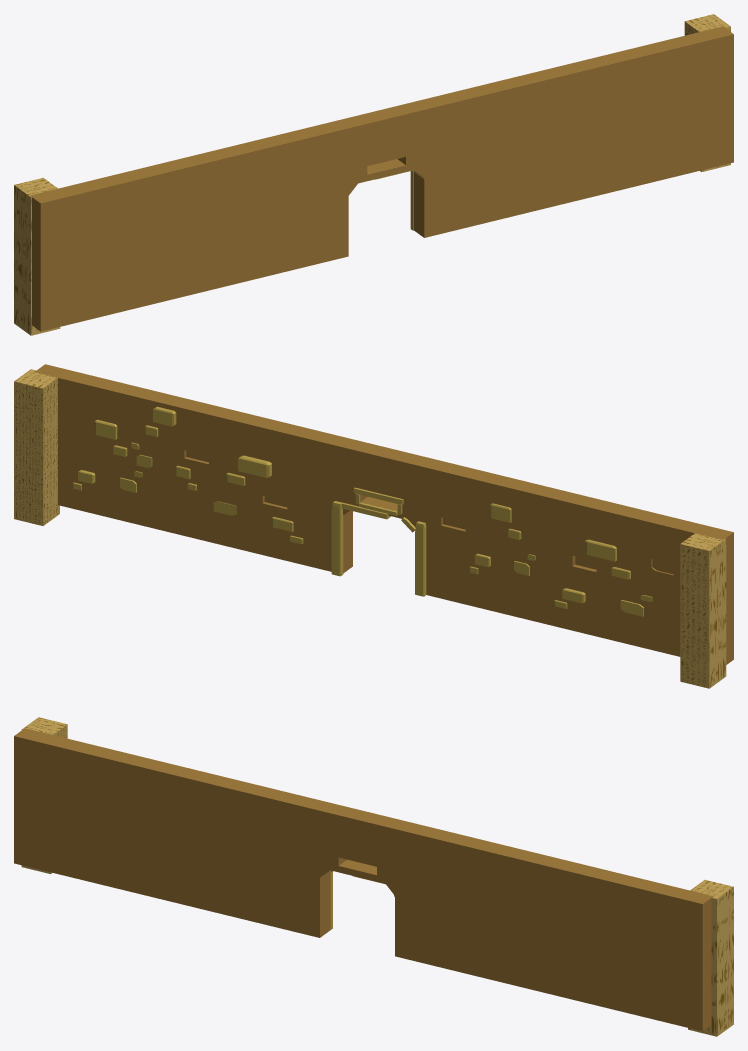
File: EG_FrontWall.fbx
3 views of the same model, one above another, from view 1: azimuth 30°, elevation 25°; view 2: azimuth 150°, elevation 25°; view 3: azimuth 330°, elevation 25° (orthographic).
Visible parts, largest first — view 1: Cube.026; view 2: Cube.026; view 3: Cube.026.
Part boxes in pixels (bbox=[...]): Cube.026: bbox=[14, 14, 733, 335]; Cube.026: bbox=[14, 364, 733, 688]; Cube.026: bbox=[14, 717, 733, 1036].
Size of the model in its own units: 2225 by 421 by 141.
Materials: 3 (1 with a texture image).
